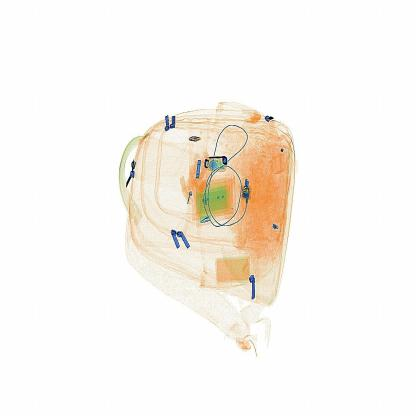wrench: (179, 130, 209, 151)
